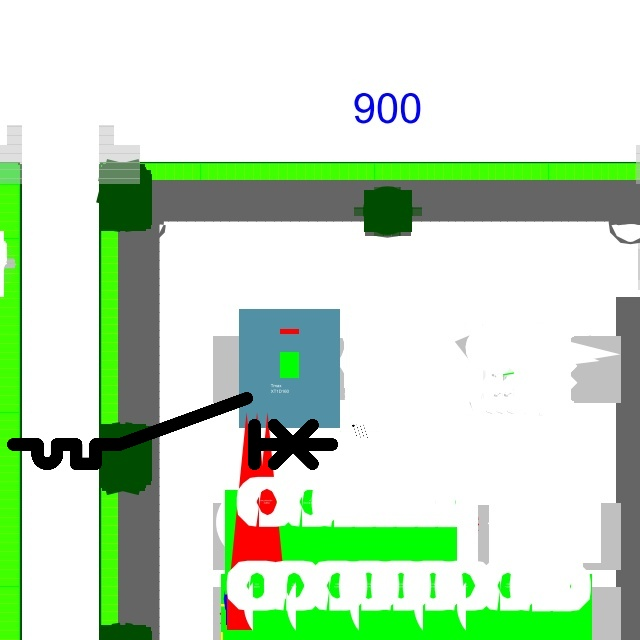interruptor_termomagnetico: (5, 390, 340, 472)
